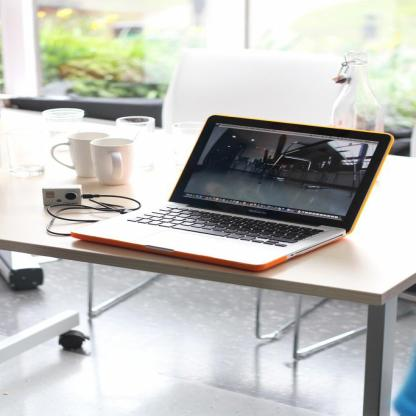board: (68, 114, 398, 272)
